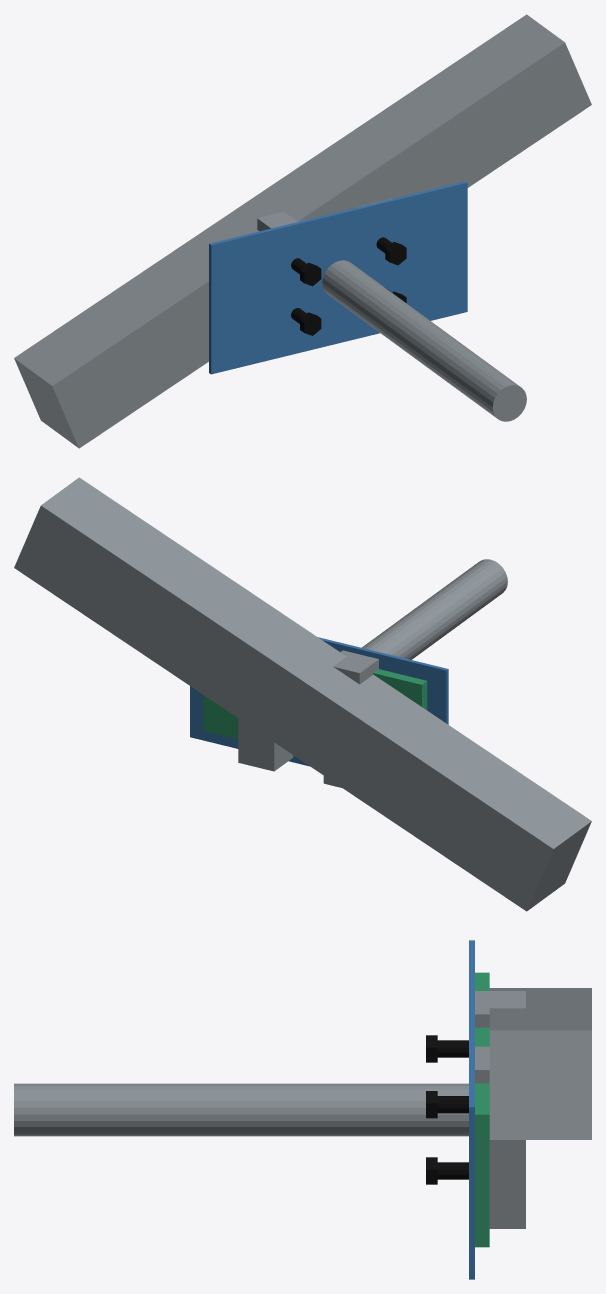
The model's file is typical_glass_railing_to_stringer_beam_connection_detail.obj.
The picture shows the model from 3 angles, top to bottom: view 1: azimuth 30°, elevation 25°; view 2: azimuth 150°, elevation 25°; view 3: azimuth 270°, elevation 25°; orthographic projection. The views are drawn at different scales.
Parts seen in each view (by area): view 1: TFC180x75x7_stringer_slope, PL4_cover_plate, glass_railing_post; view 2: TFC180x75x7_stringer_slope, glass_railing_post, PL4_cover_plate, PL10_railing_base_plate, L63x38x4_5_angle_x45, L63x38x4_5_angle_x-45; view 3: glass_railing_post, TFC180x75x7_stringer_slope, L63x38x4_5_angle_x45, PL10_railing_base_plate, PL4_cover_plate, L63x38x4_5_angle_x-45, bolt_M14_from_f14_glass_railing_2, bolt_M14_from_f14_glass_railing_3, bolt_M14_from_f14_glass_railing_4.
Part boxes in pixels (x1,y1,x2,y2): TFC180x75x7_stringer_slope: [14, 14, 591, 448]; PL4_cover_plate: [209, 181, 467, 374]; glass_railing_post: [322, 260, 526, 421]; TFC180x75x7_stringer_slope: [14, 477, 591, 911]; glass_railing_post: [362, 559, 507, 659]; PL4_cover_plate: [190, 637, 448, 766]; PL10_railing_base_plate: [203, 669, 427, 739]; L63x38x4_5_angle_x45: [238, 718, 293, 771]; L63x38x4_5_angle_x-45: [323, 650, 378, 787]; glass_railing_post: [14, 1083, 468, 1136]; TFC180x75x7_stringer_slope: [489, 988, 591, 1139]; L63x38x4_5_angle_x45: [475, 1046, 525, 1228]; PL10_railing_base_plate: [475, 972, 489, 1247]; PL4_cover_plate: [469, 940, 474, 1279]; L63x38x4_5_angle_x-45: [475, 991, 525, 1027]; bolt_M14_from_f14_glass_railing_2: [426, 1035, 468, 1062]; bolt_M14_from_f14_glass_railing_3: [426, 1157, 468, 1184]; bolt_M14_from_f14_glass_railing_4: [426, 1091, 468, 1118].
Bounding box in the file's own units: 568 × 289 × 395.
